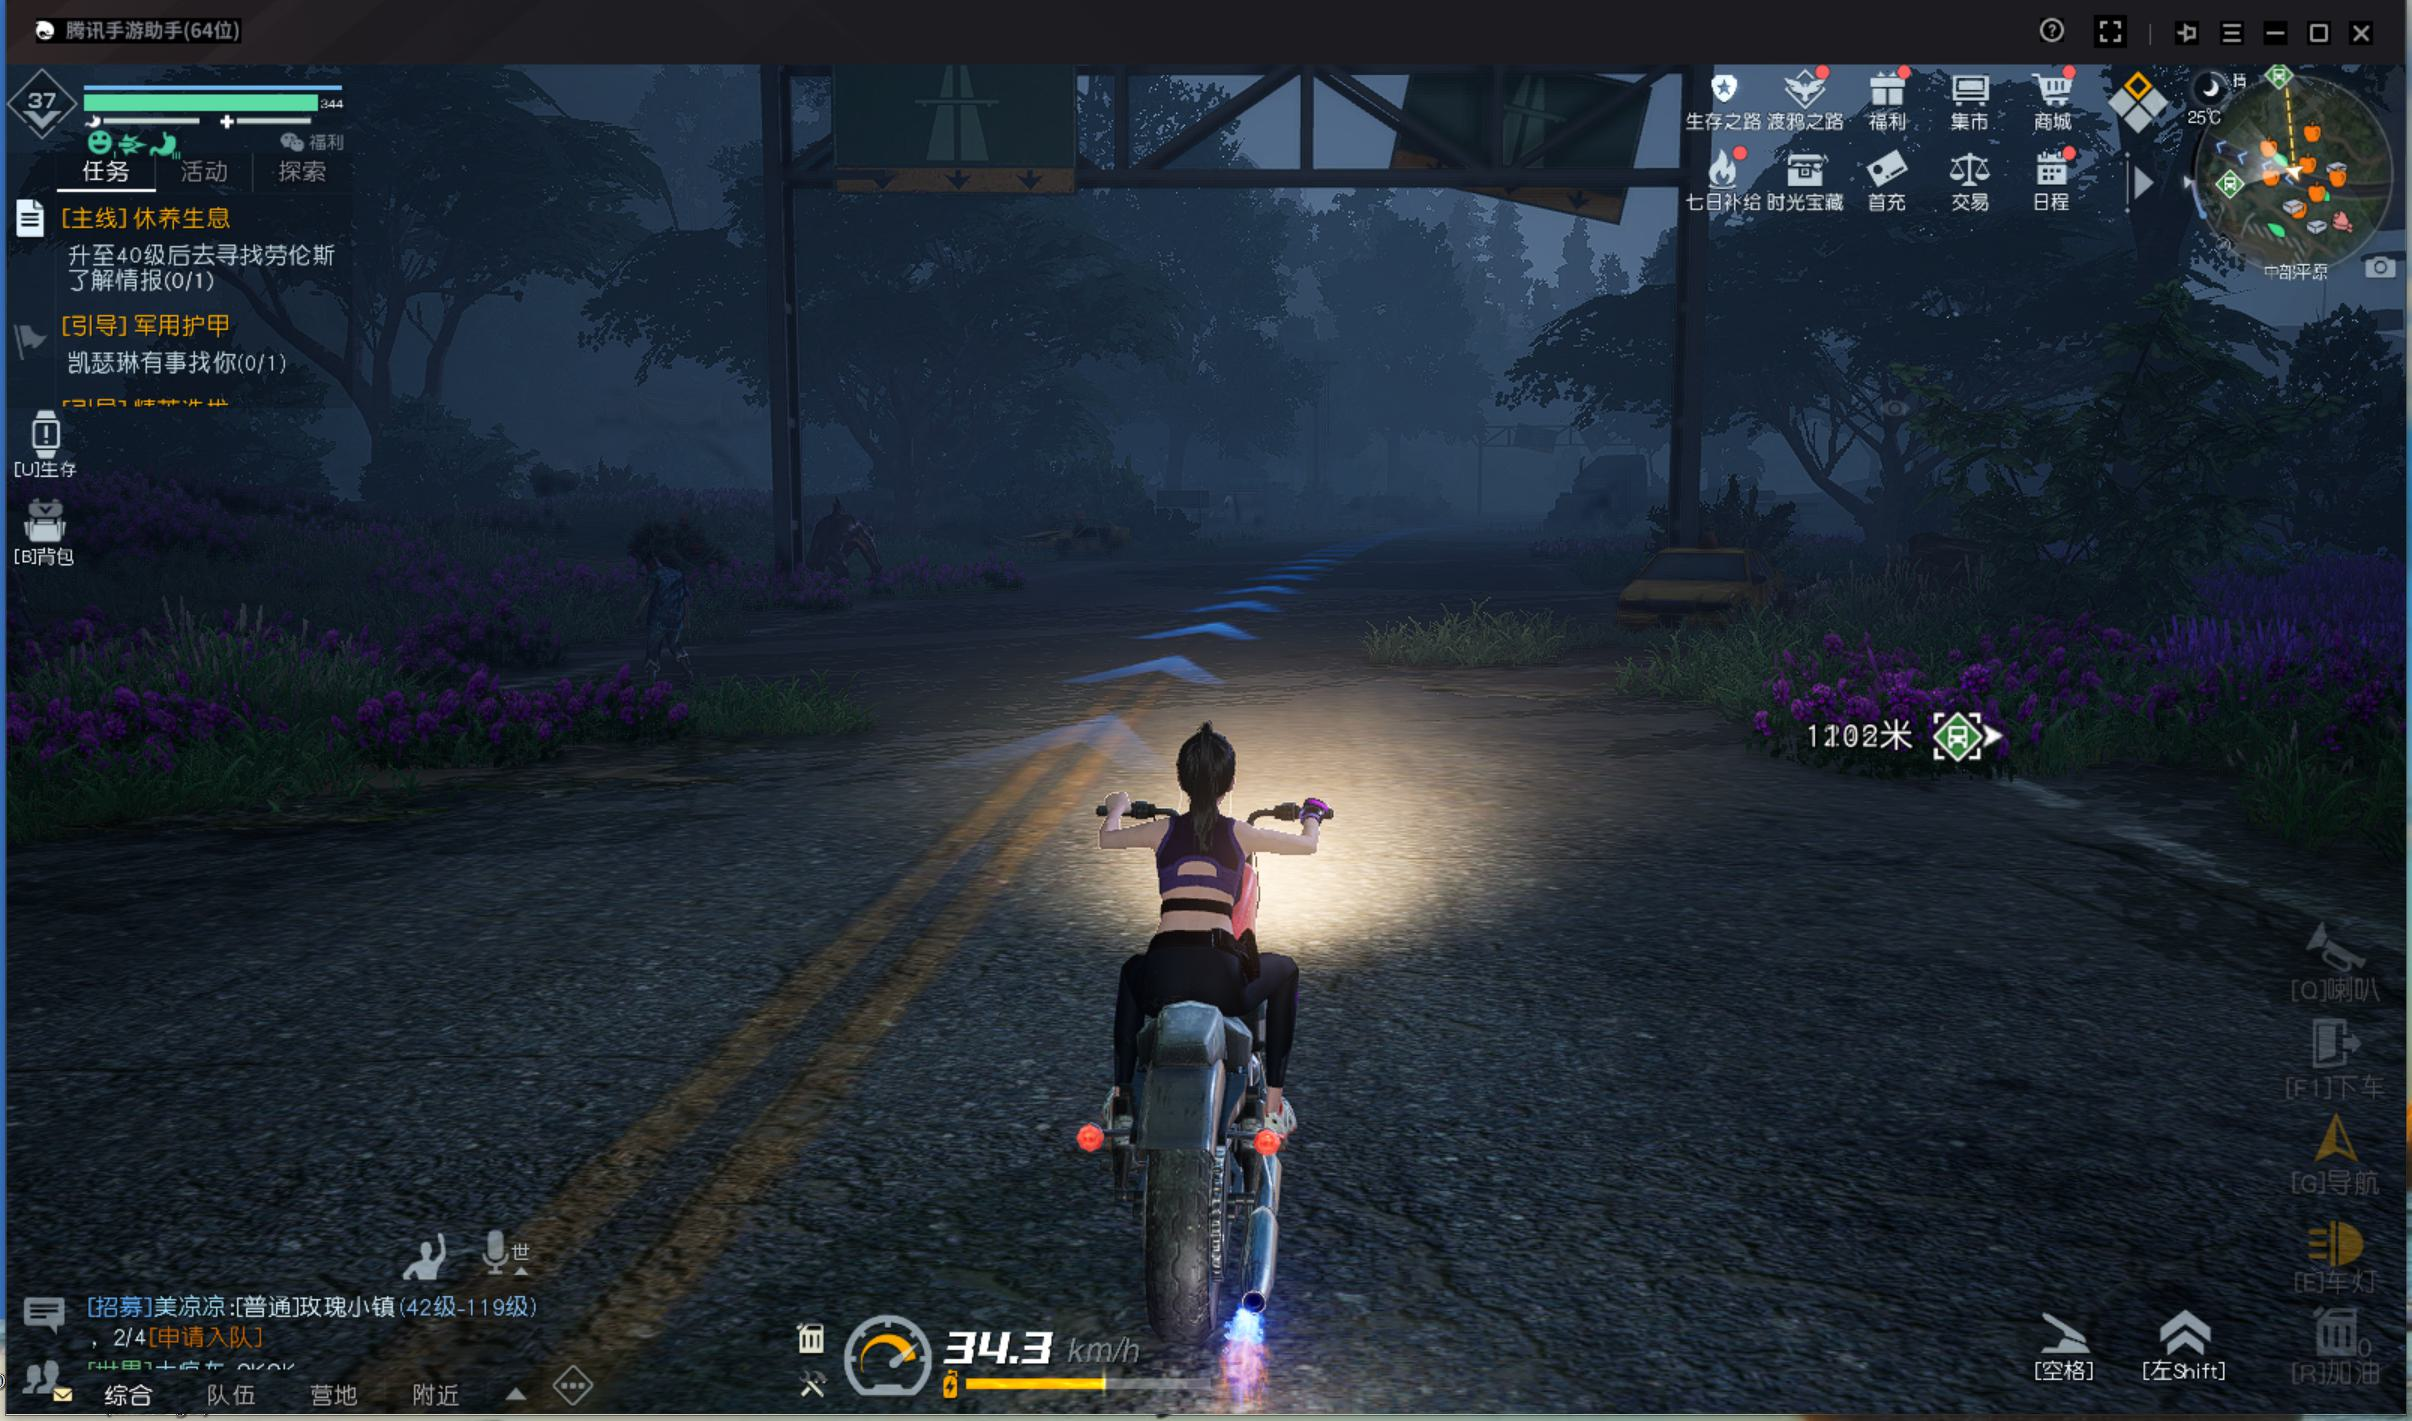tree: (352, 347, 440, 531)
